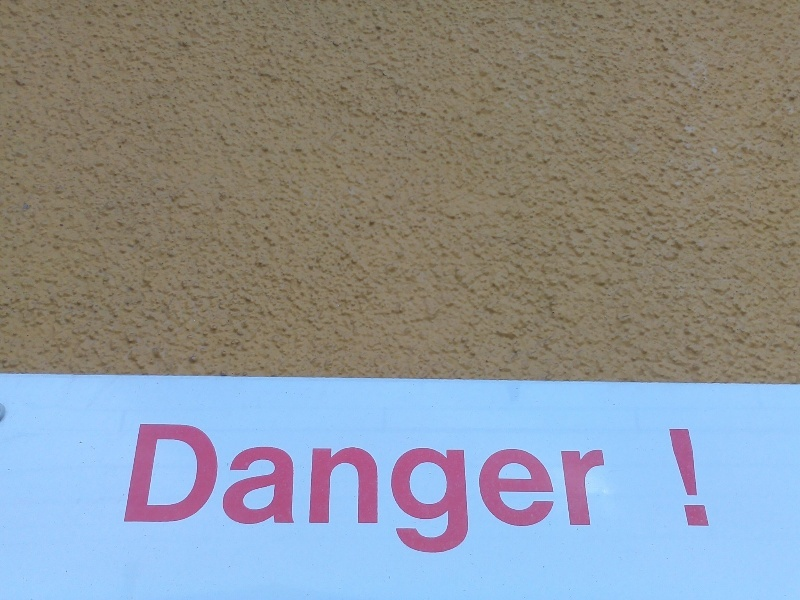text: (145, 422, 160, 556), (161, 422, 176, 556), (177, 422, 192, 556), (193, 422, 208, 556), (209, 422, 224, 556), (225, 422, 240, 556), (241, 422, 256, 556), (257, 422, 272, 556), (273, 422, 288, 556), (289, 422, 304, 556), (305, 422, 320, 556), (321, 422, 336, 556), (337, 422, 352, 556), (353, 422, 368, 556), (369, 422, 384, 556), (385, 422, 400, 556), (401, 422, 416, 556), (417, 422, 432, 556), (433, 422, 448, 556), (449, 422, 464, 556), (465, 422, 480, 556), (481, 422, 496, 556), (497, 422, 512, 556), (513, 422, 528, 556), (529, 422, 544, 556), (545, 422, 560, 556), (561, 422, 576, 556), (577, 422, 592, 556), (593, 422, 608, 556), (609, 422, 621, 556), (673, 426, 688, 529), (689, 426, 704, 529), (705, 426, 712, 529), (140, 422, 144, 556), (667, 426, 672, 529)
